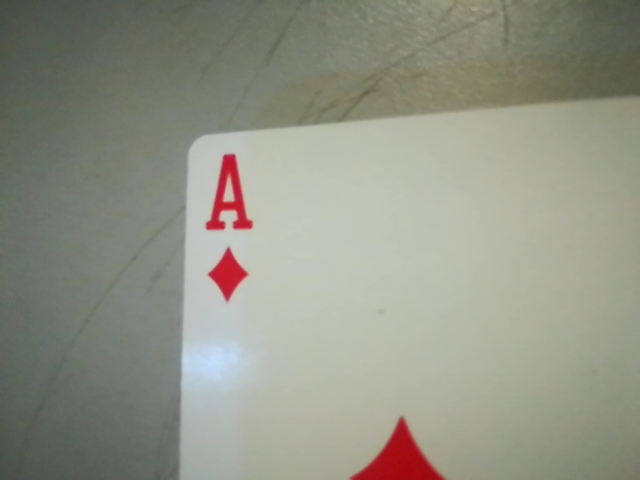fk a: (192, 145, 266, 308)
